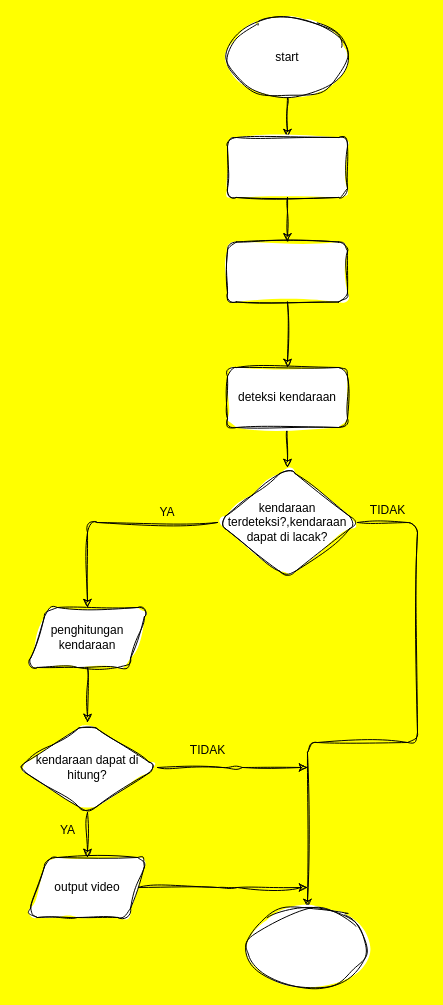
The diagram is 443 pixels wide and 1005 high, and some of its shapes have lost their labels. Here are the shapes that lost their labels. From the top down, the centre of each, then its label:
At pixel 287 167: "input video".
At pixel 287 271: "visualisasi".
At pixel 307 947: "end".
